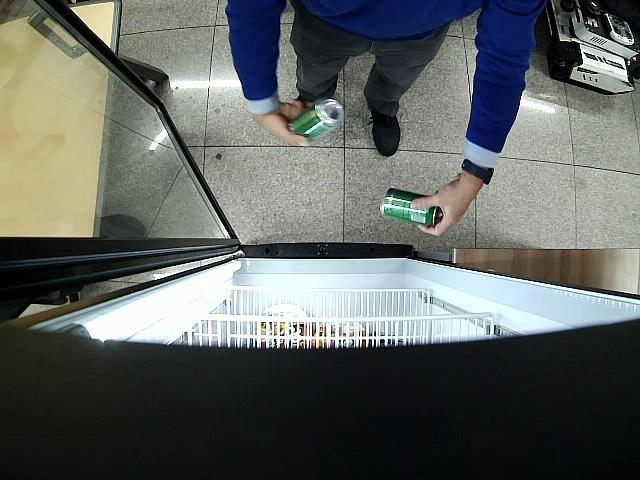12_chilsungCider: (288, 97, 344, 142), (380, 188, 442, 227)
